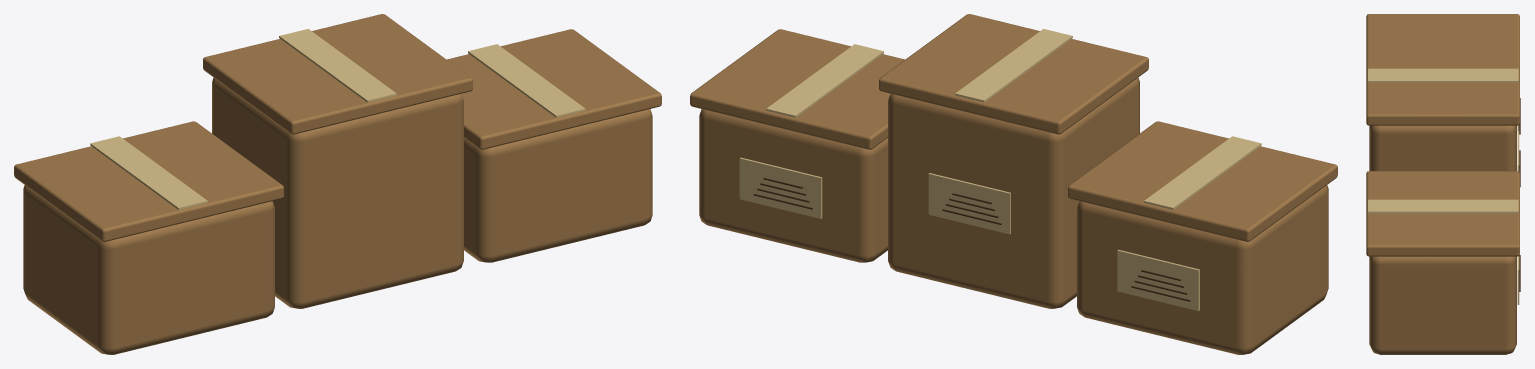
The model's file is ArchiveBoxes.obj.
3 renders of one model, left to right at view 1: azimuth 30°, elevation 25°; view 2: azimuth 150°, elevation 25°; view 3: azimuth 270°, elevation 25°, orthographic. The views are drawn at different scales.
Visible parts, largest first — view 1: ArchiveBoxes; view 2: ArchiveBoxes; view 3: ArchiveBoxes.
Part boxes in pixels (x1,y1,x2,y2): ArchiveBoxes: (14, 14, 661, 354); ArchiveBoxes: (690, 14, 1337, 354); ArchiveBoxes: (1366, 14, 1520, 354).
Size of the model in its own units: 1.72 by 0.583 by 0.482.
